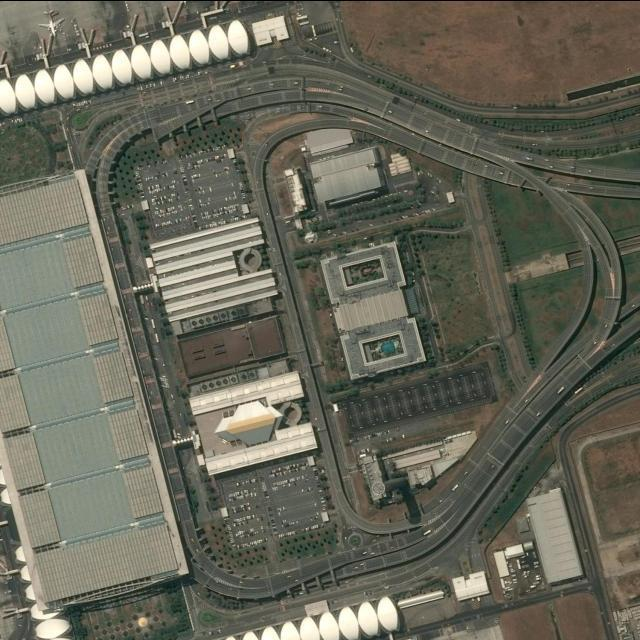Aircraft: (41, 10, 65, 36)
